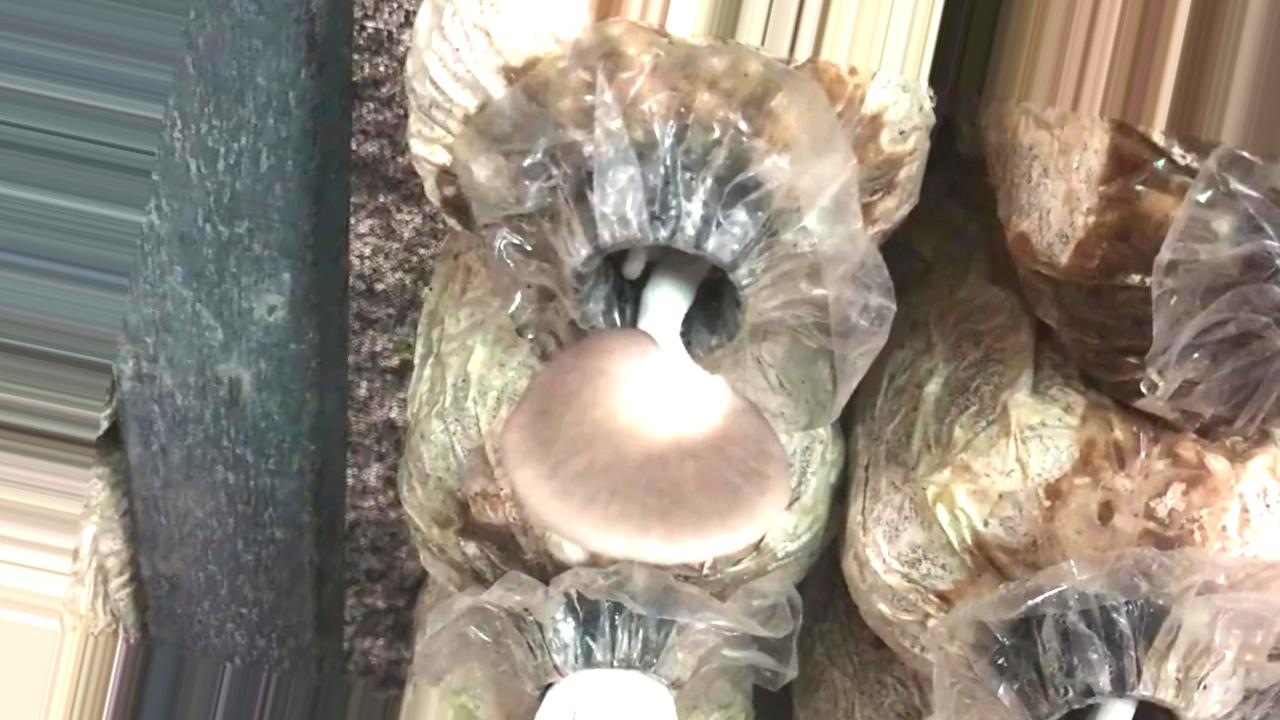nam: (506, 168, 786, 570)
